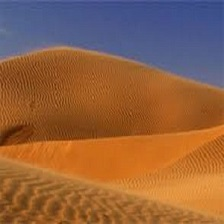sandy_soil: (6, 31, 212, 207)
